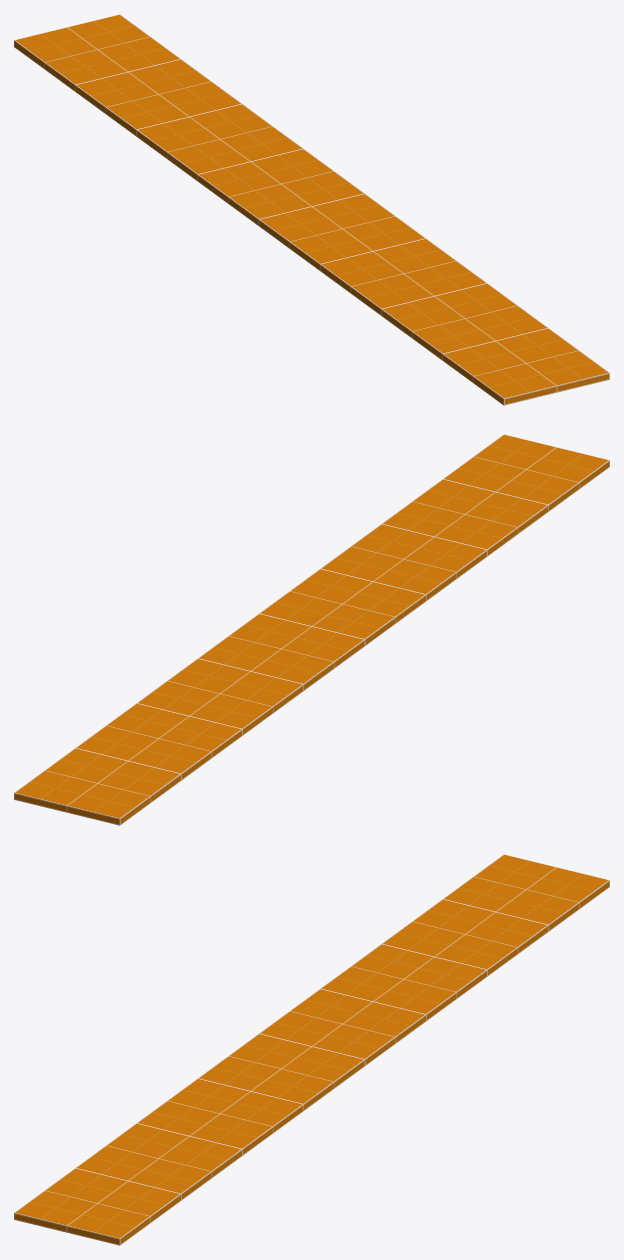
Rendered from Plate16_1x8.obj.
3 views of the same model, one above another, from view 1: azimuth 30°, elevation 25°; view 2: azimuth 150°, elevation 25°; view 3: azimuth 330°, elevation 25° (orthographic).
Parts seen in each view (by area): view 1: Plate16_1x8_Cube.421; view 2: Plate16_1x8_Cube.421; view 3: Plate16_1x8_Cube.421.
Boxes of the visible parts, bbox=[...] form: Plate16_1x8_Cube.421: bbox=[14, 14, 609, 405]; Plate16_1x8_Cube.421: bbox=[14, 434, 609, 825]; Plate16_1x8_Cube.421: bbox=[14, 854, 609, 1245].
Size of the model in its own units: 1 by 0.0625 by 8.
Materials: 1 (1 with a texture image).
